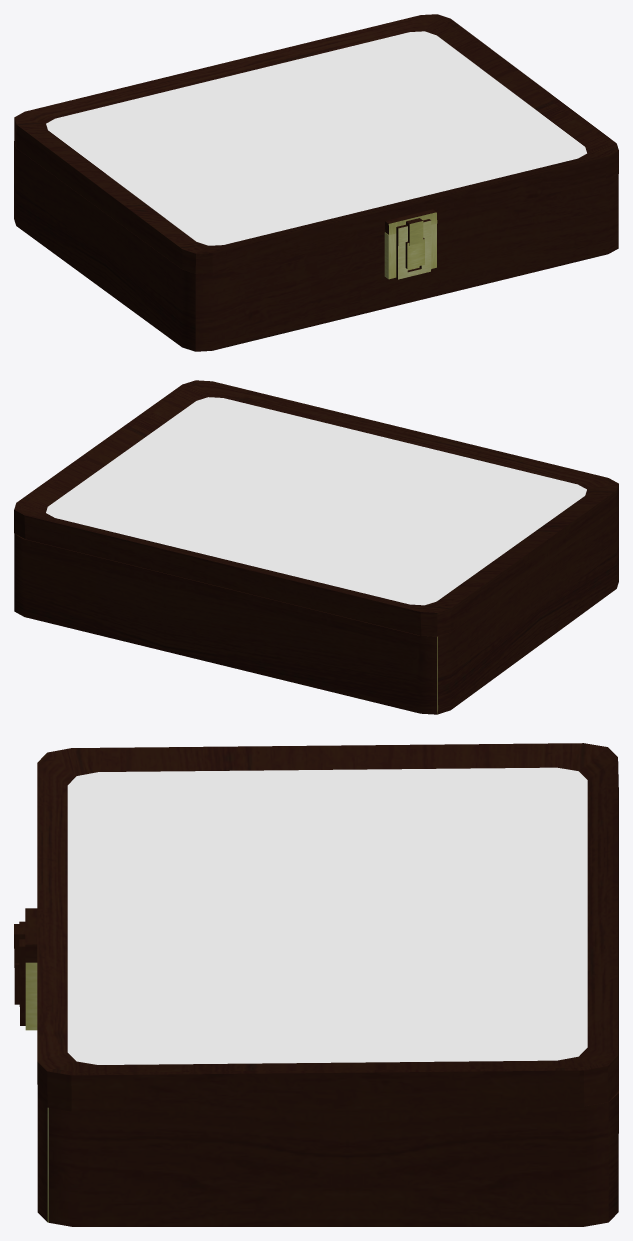
The model's file is ClosedCase.fbx.
3 renders of one model, top to bottom at view 1: azimuth 30°, elevation 25°; view 2: azimuth 150°, elevation 25°; view 3: azimuth 270°, elevation 25°, orthographic. The views are drawn at different scales.
Visible parts, largest first — view 1: locktophalf1, lockbottom1; view 2: locktophalf1, lockbottom1; view 3: locktophalf1, lockbottom1.
Boxes of the visible parts, x1,y1,x2,y2 form: locktophalf1: (14, 14, 618, 279); lockbottom1: (14, 141, 618, 351); locktophalf1: (14, 380, 618, 636); lockbottom1: (14, 504, 618, 714); locktophalf1: (14, 743, 618, 1111); lockbottom1: (14, 962, 618, 1226).
Size of the model in its own units: 6 by 1.34 by 4.69.
3 materials, 2 textured.
